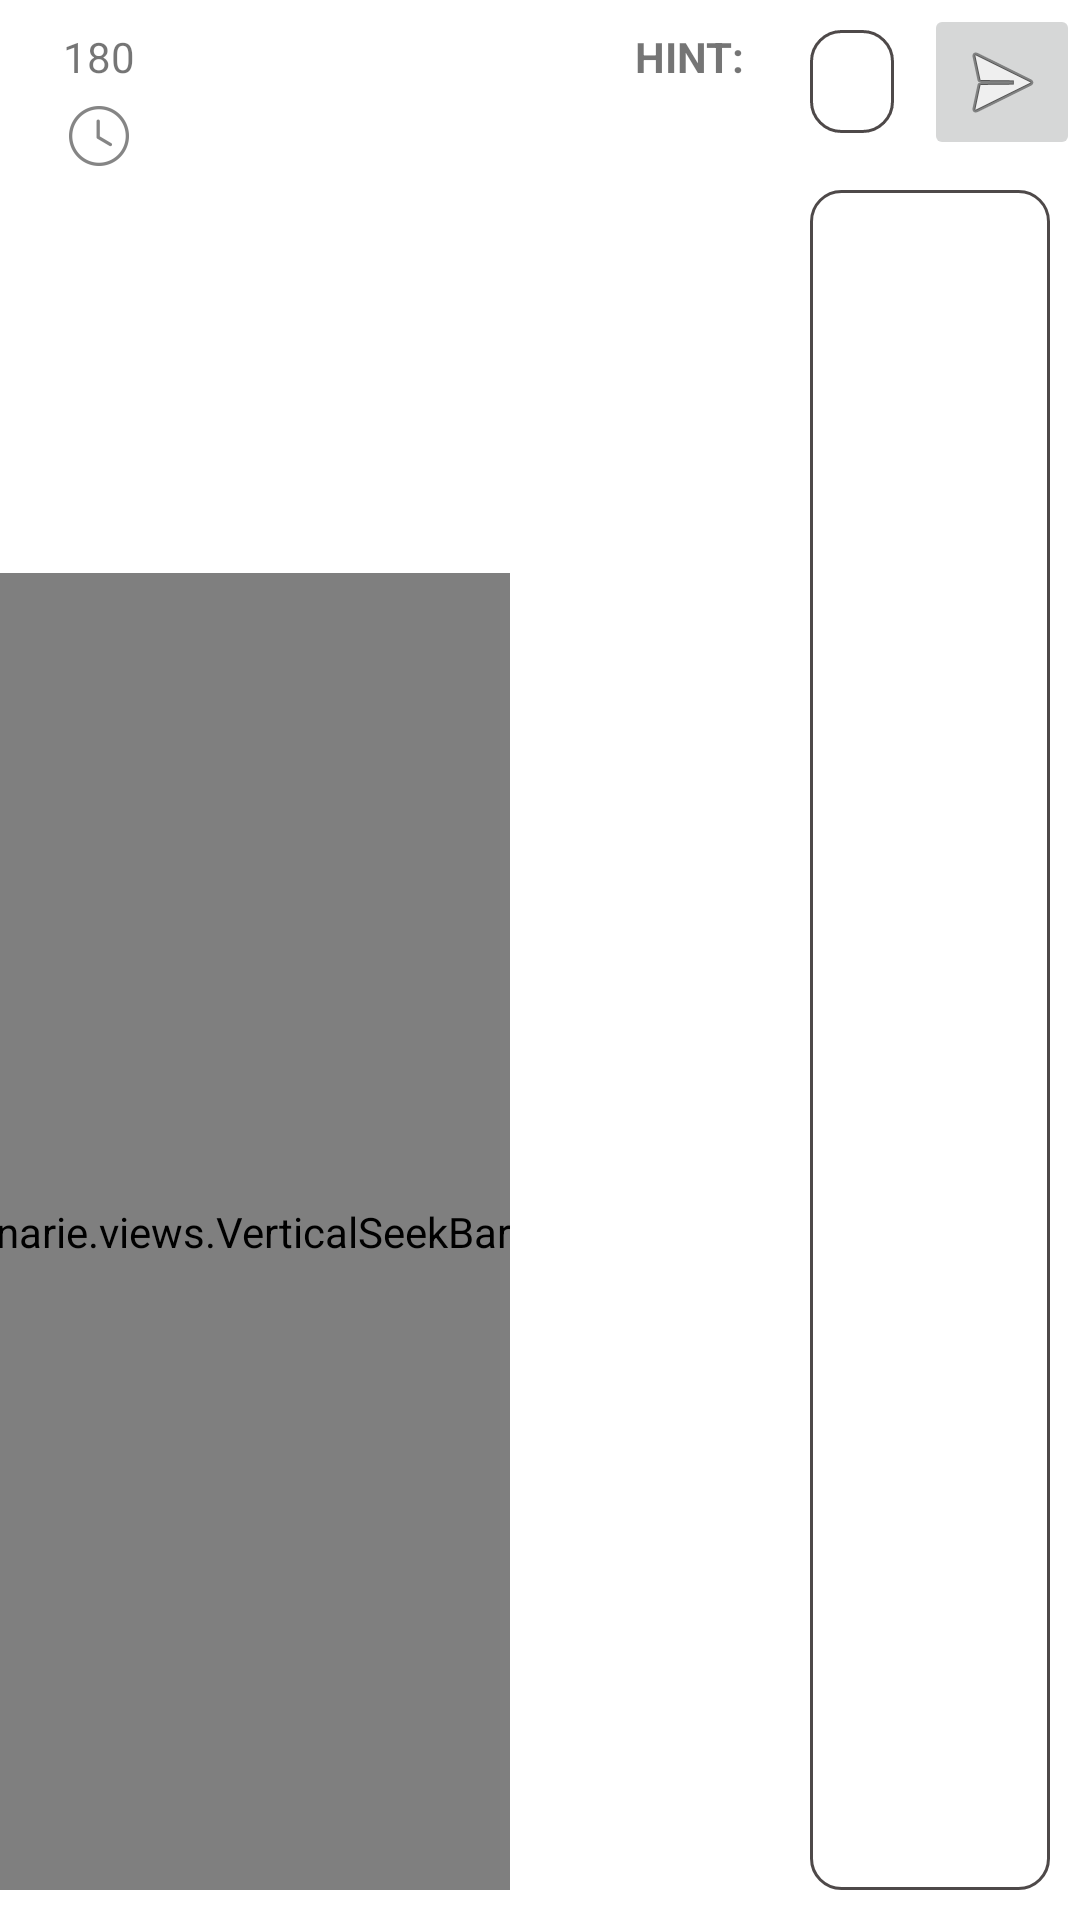

Icon click points for this 1080x1920 phone screenshot, format [x,y]:
clock: [99,136]
send: [1002,82]
